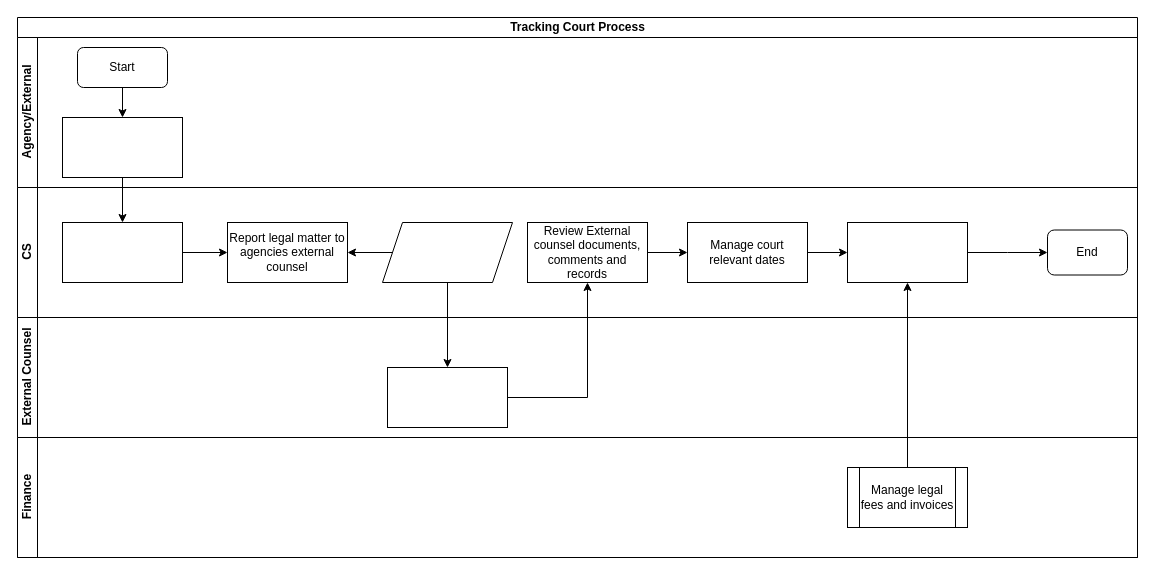
Some shapes in this 1155 by 575 pixel diagram are drawn without their labels. The shapes that lost their labels are listed below. From the top down, each one's centre as x and y in pixels, then its label:
the point at 122,147: Legal matter lodged in court
the point at 122,252: Recording details of legal matter
the point at 447,252: Consultations with Attorney general
the point at 907,252: Track progress and outcome of court matters
the point at 447,397: Review and share feedback and documents
